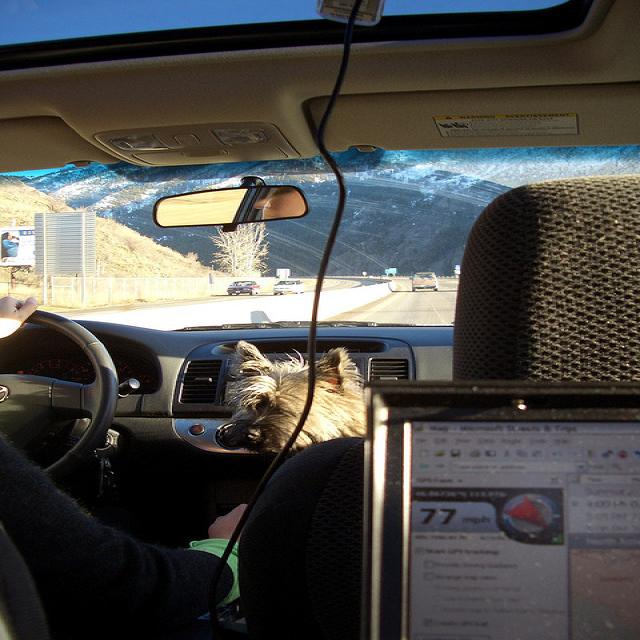Vehicle: (410, 272, 439, 293), (272, 280, 304, 296), (227, 279, 261, 294)
